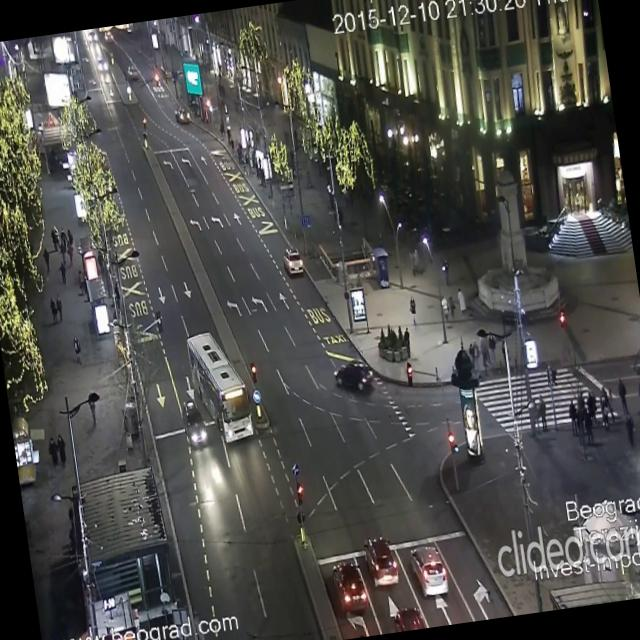bus: (185, 327, 256, 448)
car: (408, 542, 449, 600), (331, 558, 370, 618), (361, 534, 400, 588), (332, 358, 374, 395), (180, 401, 209, 452), (392, 604, 427, 632), (282, 245, 304, 277), (96, 59, 114, 80), (173, 105, 190, 125), (127, 61, 140, 81), (87, 31, 102, 48), (104, 33, 116, 47)
